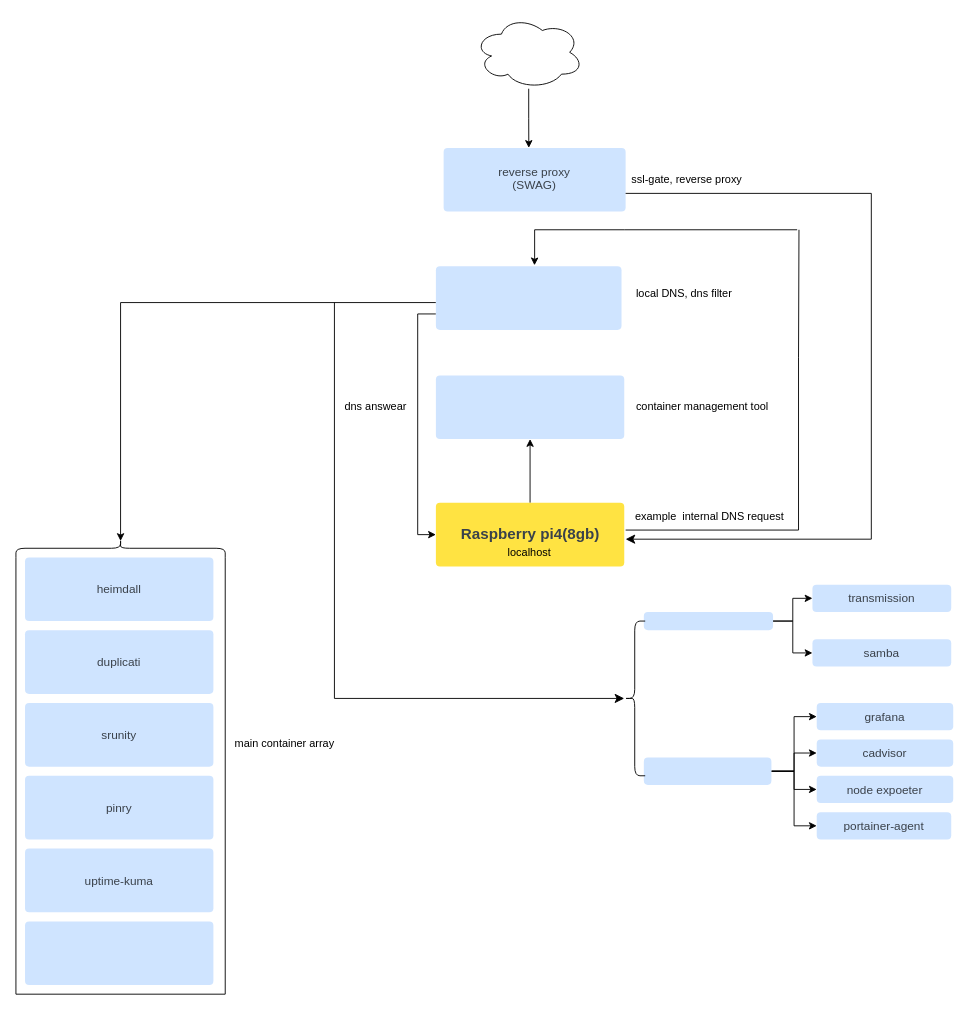
This 969x1011 diagram has some shape labels left out. The box of each missing label's shape, as (x1, y1, x2, y2) in pixels:
isp: (473, 15, 583, 89)
jenkins: (24, 921, 213, 985)
pihole: (435, 265, 621, 330)
plex: (643, 611, 773, 630)
portainer: (435, 375, 624, 439)
prometheus: (643, 757, 771, 785)
